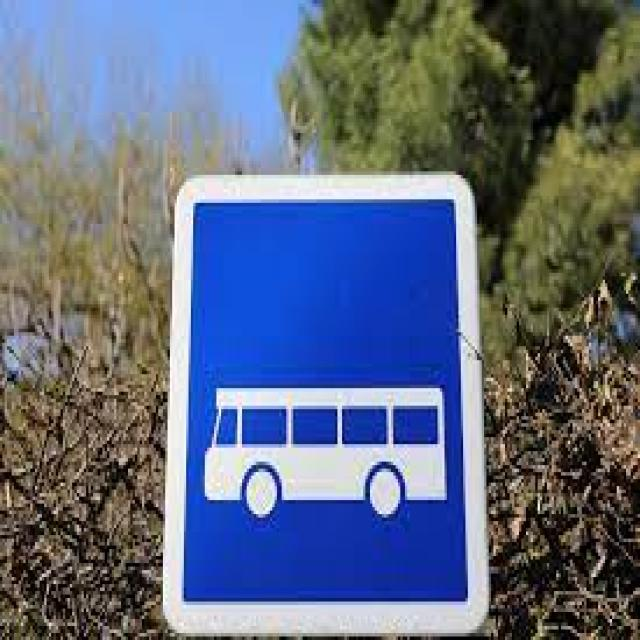ArretBus: (170, 173, 489, 632)
